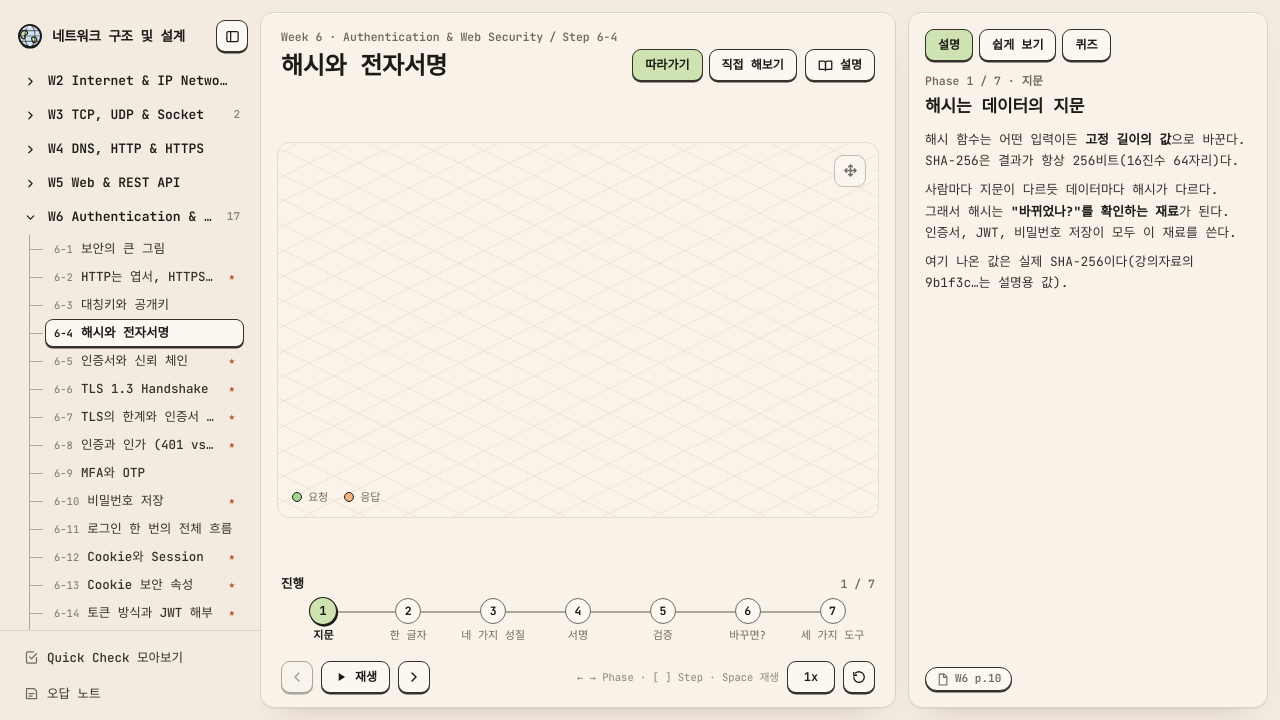
6-4 해시와 전자서명 › 직접 해보기: 실제 SHA-256을 계산하고, 같은 입력이면 같은 해시
Click the button "직접 해보기": x=753, y=65 [708,49,797,81]
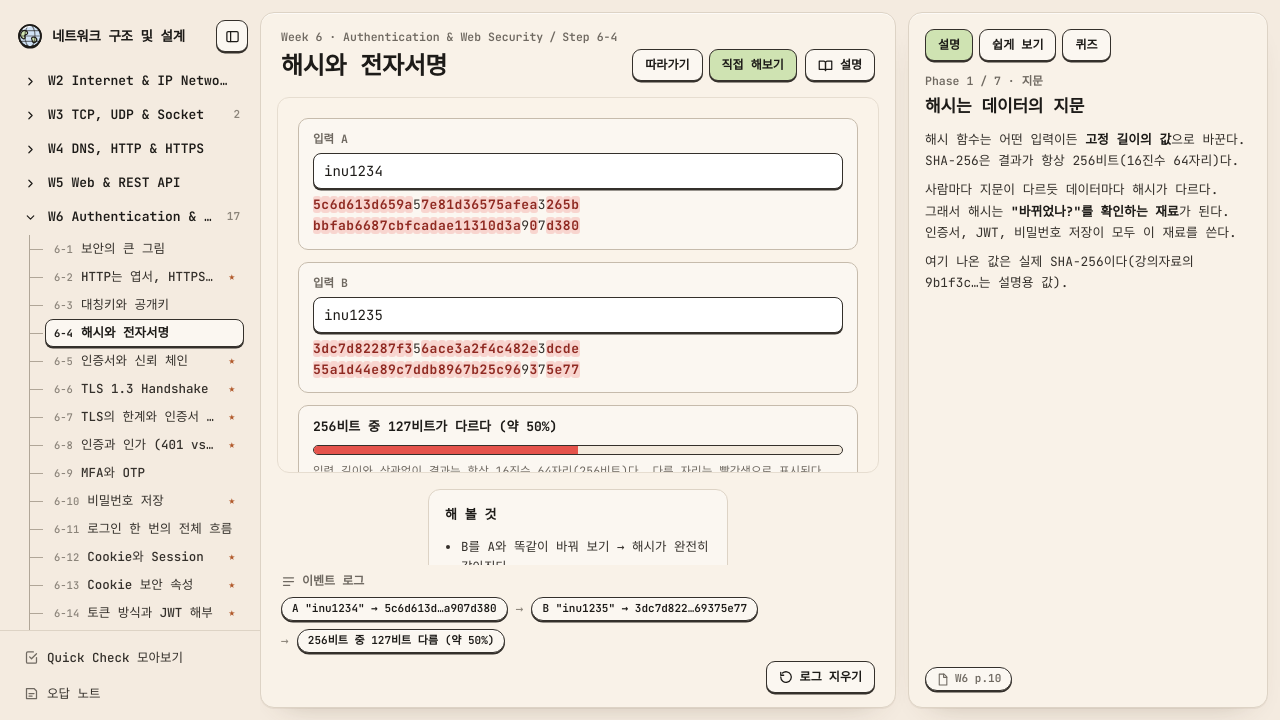
expect the text "256비트 중 127비트가 다르다 (약 50%)" is shown: met, box [313,418,557,436]
Replace the text in the field labelled "입력 B" with "inu1234": x=578, y=315 [313,297,843,333]
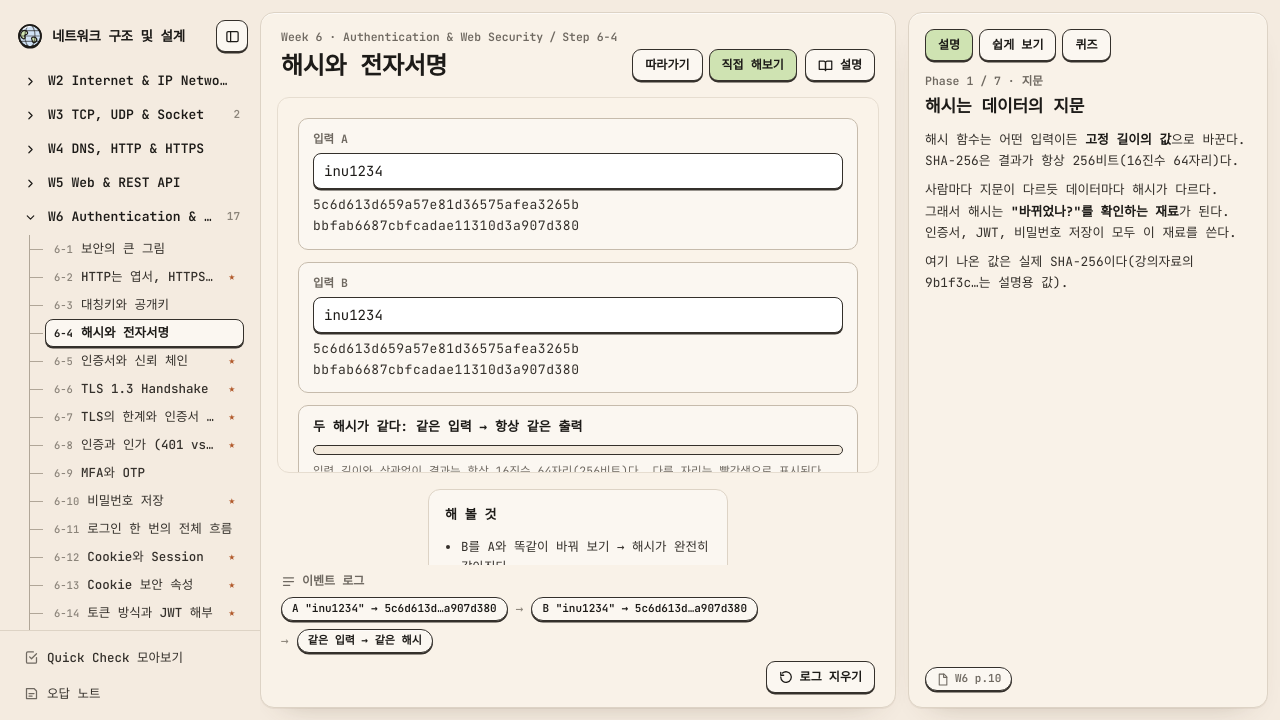
expect the text "두 해시가 같다: 같은 입력 → 항상 같은 출력" is shown: met, box [313,418,582,436]
